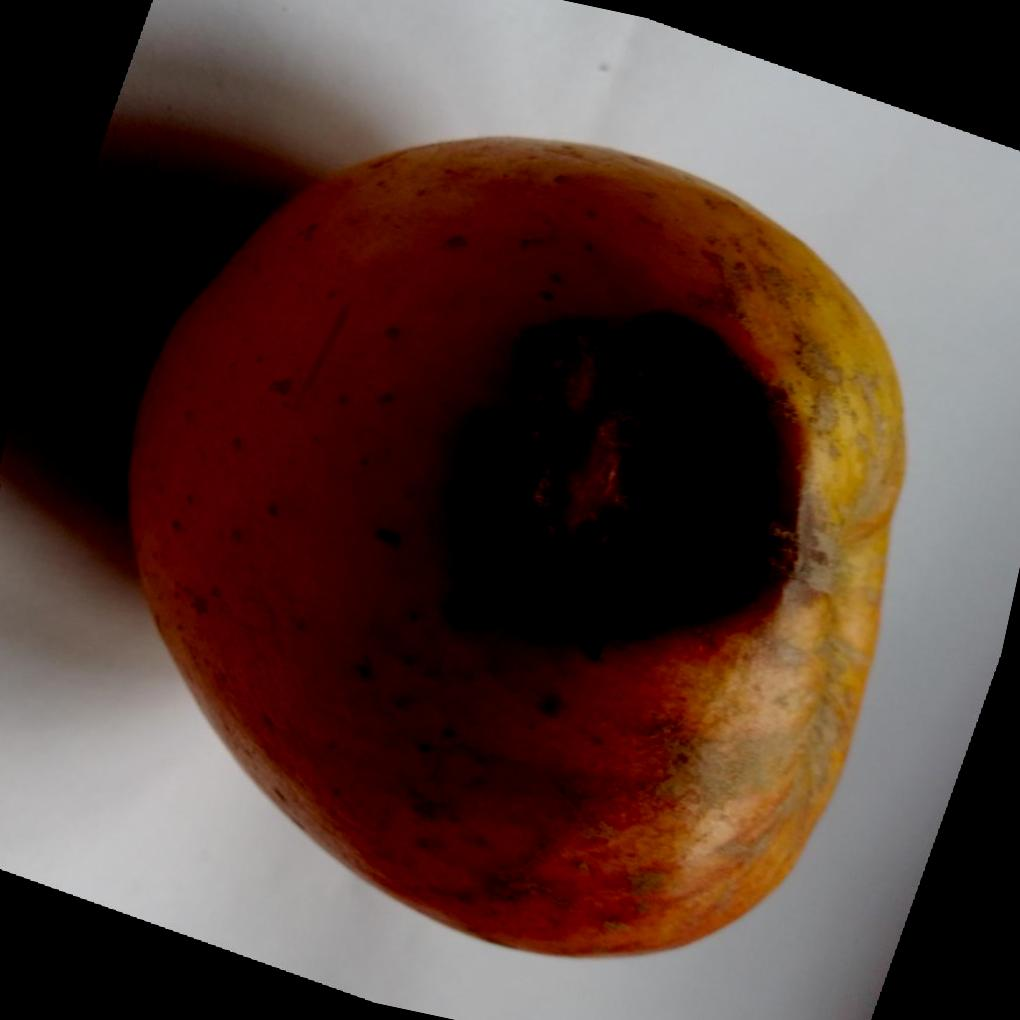FreshOrange: (120, 133, 906, 960)
